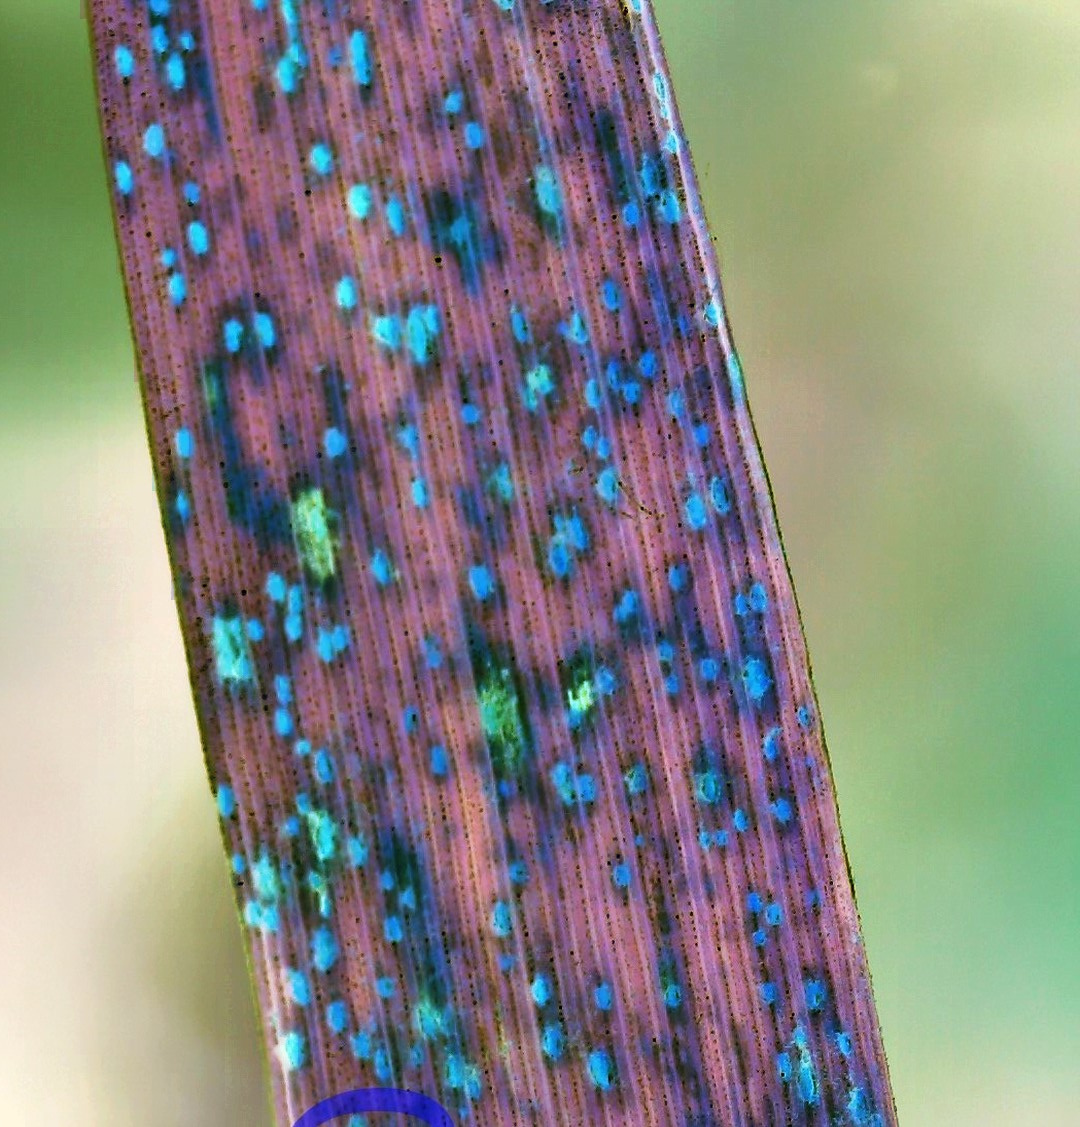Leaf Rust: (87, 63, 892, 1100)
